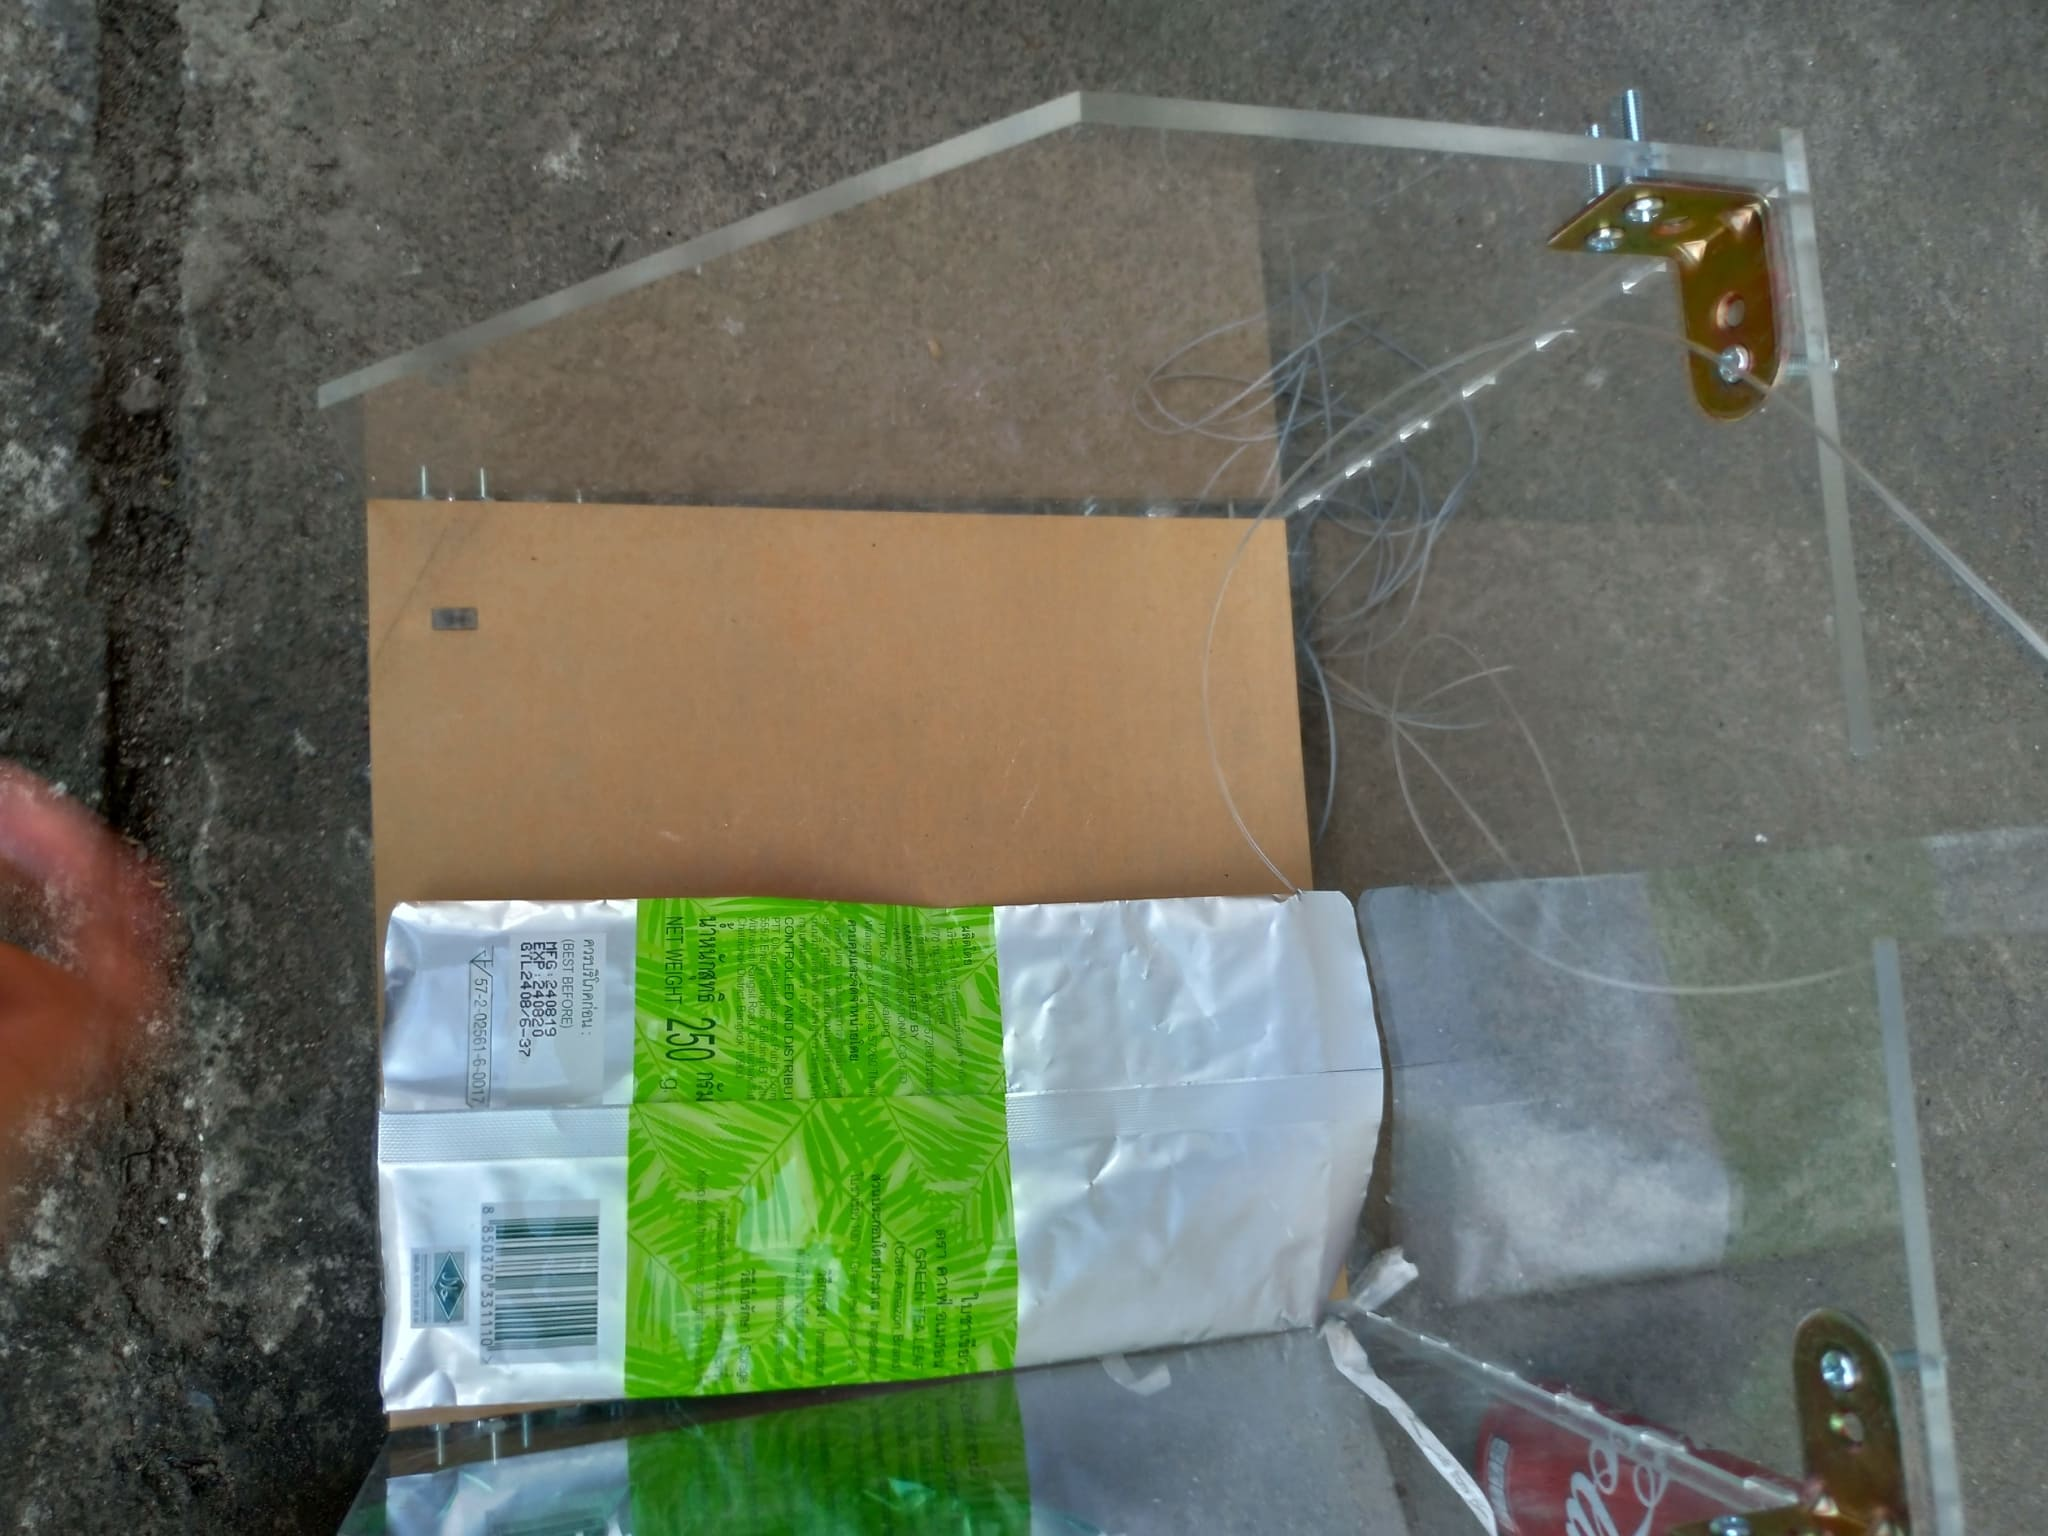AlCan: (1453, 1384, 1817, 1536)
Others: (373, 886, 1409, 1428)
